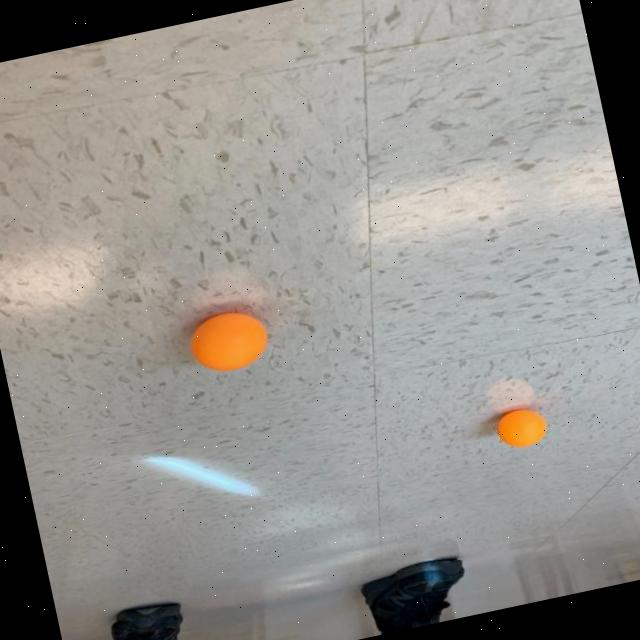ping-pong-ball: (182, 304, 275, 379), (488, 402, 552, 454)
